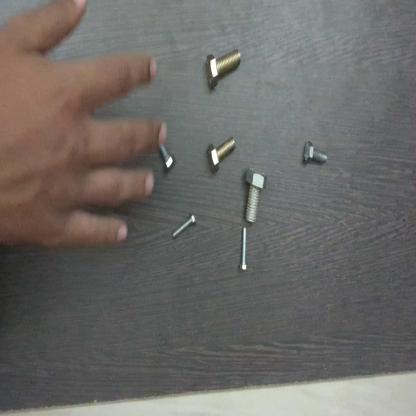Bolts: (203, 43, 244, 97), (242, 161, 268, 224), (207, 133, 237, 178), (303, 136, 330, 172), (170, 207, 197, 242), (161, 140, 179, 180), (238, 224, 250, 274)
